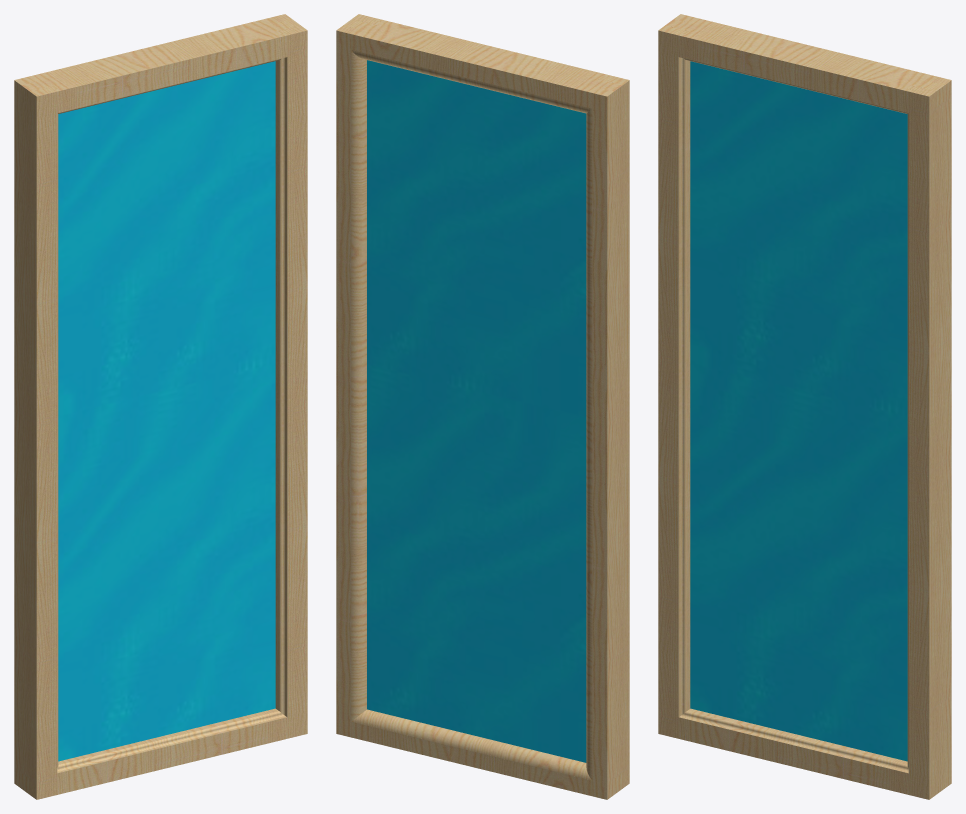
The model's file is window.glb.
The picture shows the model from 3 angles, left to right: view 1: azimuth 30°, elevation 25°; view 2: azimuth 150°, elevation 25°; view 3: azimuth 330°, elevation 25°; orthographic projection.
Visible parts, largest first — view 1: Window1, Long2, Long1, Skillnad, Skillnad1; view 2: Window1, Long2, Long1, Skillnad3, Skillnad, Skillnad5, Skillnad1, Skillnad4, Skillnad2; view 3: Window1, Long1, Long2, Skillnad, Skillnad1.
Boxes of the visible parts, x1,y1,x2,y2 form: Window1: (58, 61, 275, 761); Long2: (14, 76, 58, 799); Long1: (270, 14, 307, 738); Skillnad: (21, 18, 300, 113); Skillnad1: (21, 708, 287, 794); Window1: (367, 60, 586, 762); Long2: (592, 75, 629, 799); Long1: (336, 14, 380, 737); Skillnad3: (351, 50, 366, 721); Skillnad: (343, 19, 622, 108); Skillnad5: (586, 109, 592, 780); Skillnad1: (351, 722, 622, 795); Skillnad4: (351, 709, 591, 780); Skillnad2: (351, 50, 591, 113); Window1: (690, 61, 907, 761); Long1: (907, 76, 951, 799); Long2: (658, 14, 695, 738); Skillnad: (665, 18, 944, 113); Skillnad1: (678, 708, 944, 794).
Bounding box in the file's own units: 4.86 × 12.05 × 0.7002.
Materials: 4 (3 with a texture image).
